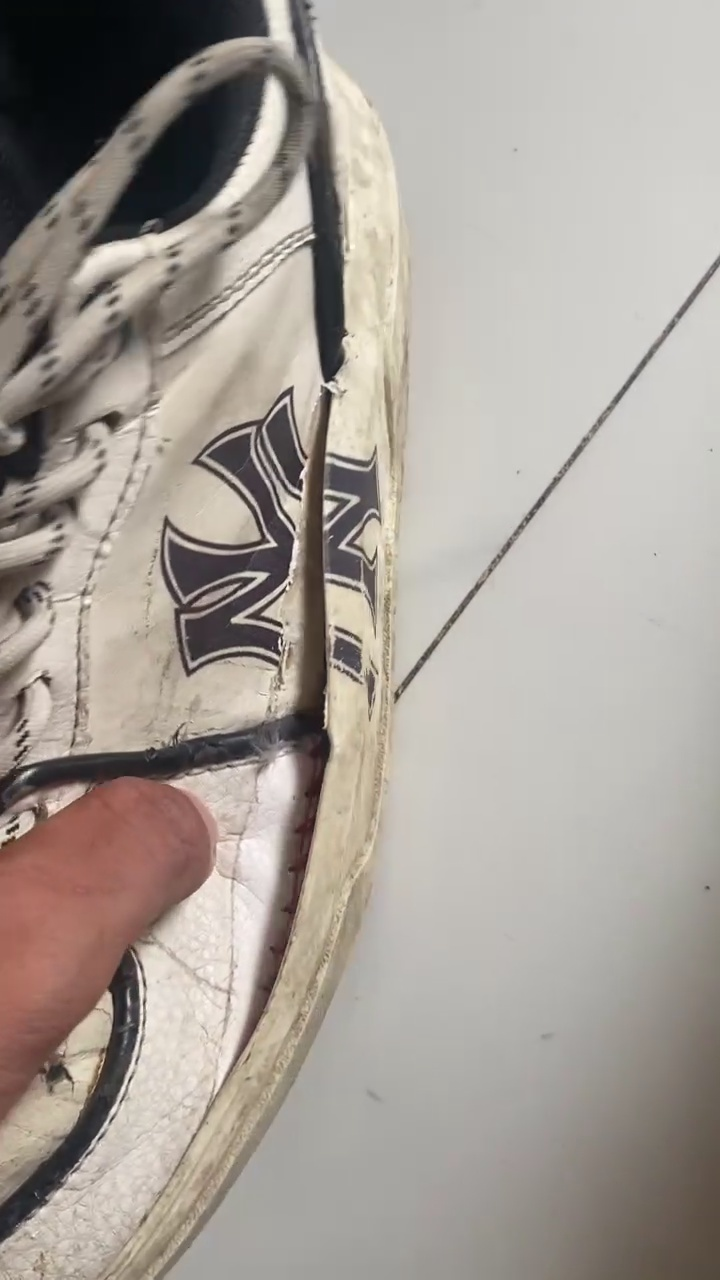bonding: (209, 723, 334, 1066), (268, 390, 348, 719)
